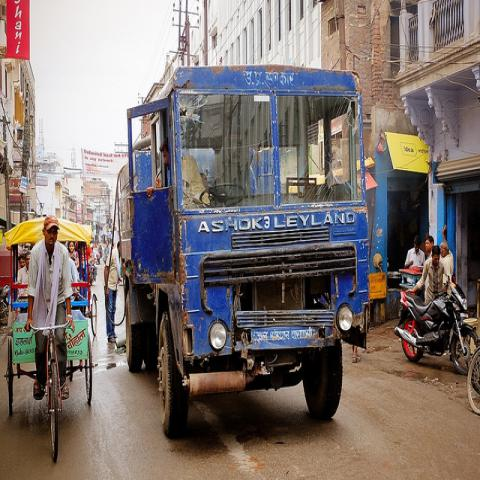motorcycle: (393, 273, 479, 375)
truck: (118, 72, 368, 440)
